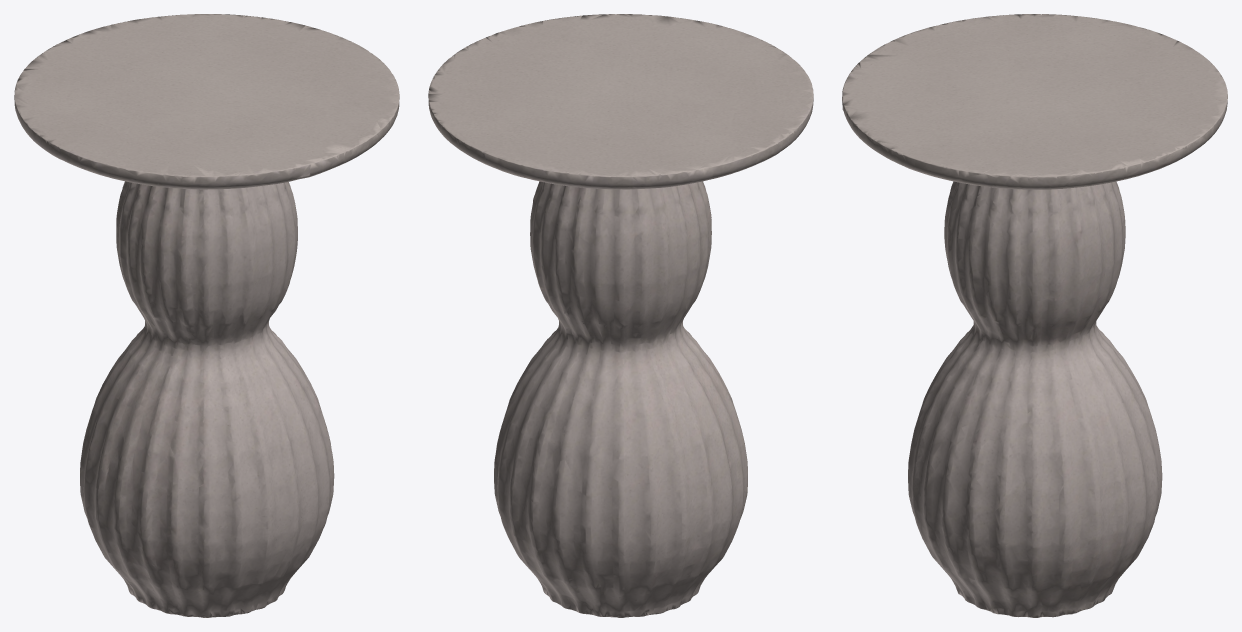
File: fluted-stone-side-table.glb
The picture shows the model from 3 angles, left to right: view 1: azimuth 30°, elevation 25°; view 2: azimuth 150°, elevation 25°; view 3: azimuth 270°, elevation 25°; orthographic projection.
Parts seen in each view (by area): view 1: world; view 2: world; view 3: world.
Boxes of the visible parts, x1,y1,x2,y2 form: world: (14, 14, 399, 617); world: (428, 14, 813, 617); world: (842, 14, 1227, 617).
Bounding box in the file's own units: 0.7113 × 0.9961 × 0.7114.
Materials: 1 (1 with a texture image).
